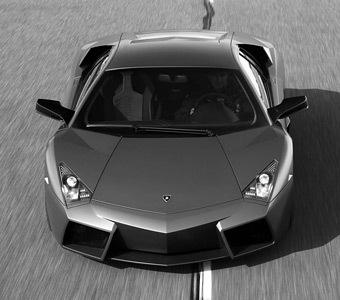car: (36, 29, 311, 269)
